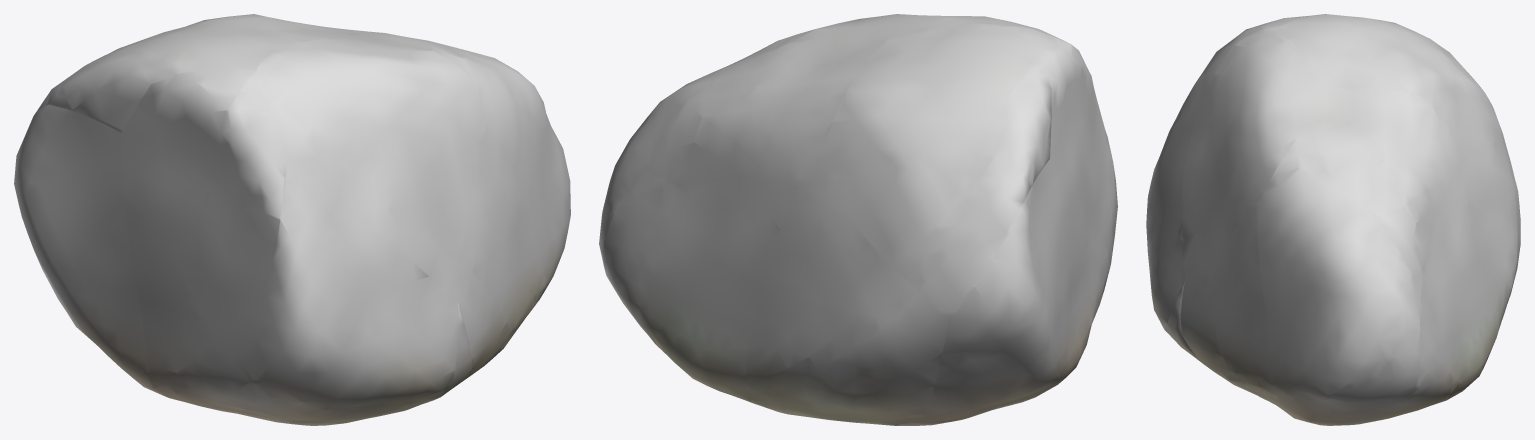
The model's file is gold_rock_v5.glb.
3 views of the same model, side by side, from view 1: azimuth 30°, elevation 25°; view 2: azimuth 150°, elevation 25°; view 3: azimuth 270°, elevation 25° (orthographic). The views are drawn at different scales.
Visible parts, largest first — view 1: Chunk_04, Chunk_05, Chunk_09, Chunk_03, Chunk_08, Chunk_06, Chunk_00, Chunk_12, Chunk_07, Chunk_14, Chunk_23; view 2: Chunk_08, Chunk_02, Chunk_07, Chunk_01, Chunk_03, Chunk_04, Chunk_00, Chunk_09, Chunk_05; view 3: Chunk_00, Chunk_09, Chunk_07, Chunk_08, Chunk_06, Chunk_01, Chunk_02, Chunk_05, Chunk_23, Chunk_04, Chunk_12, Chunk_10.
Part boxes in pixels (x1,y1,x2,y2): Chunk_04: (121,68,287,410); Chunk_05: (254,158,458,422); Chunk_09: (255,37,485,300); Chunk_03: (14,104,167,397); Chunk_08: (37,14,323,132); Chunk_06: (458,125,543,375); Chunk_00: (450,48,570,299); Chunk_12: (291,301,471,425); Chunk_07: (270,17,458,49); Chunk_14: (167,396,291,423); Chunk_23: (399,45,482,107); Chunk_08: (812,26,1051,320); Chunk_02: (746,189,948,421); Chunk_07: (647,37,884,246); Chunk_01: (603,169,768,408); Chunk_03: (922,159,1080,421); Chunk_04: (1020,27,1112,360); Chunk_00: (599,40,779,263); Chunk_09: (815,14,1043,42); Chunk_05: (1097,100,1117,257); Chunk_00: (1257,167,1420,422); Chunk_09: (1181,30,1326,280); Chunk_07: (1310,85,1470,277); Chunk_08: (1282,14,1505,155); Chunk_06: (1180,205,1280,402); Chunk_01: (1395,227,1498,414); Chunk_02: (1462,142,1520,329); Chunk_05: (1146,75,1205,331); Chunk_23: (1264,125,1324,192); Chunk_04: (1187,15,1309,96); Chunk_12: (1166,280,1202,363); Chunk_10: (1244,389,1406,425).
Bounding box in the file's own units: 2.54 × 1.73 × 2.03.
